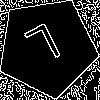L: (22, 22, 68, 75)
